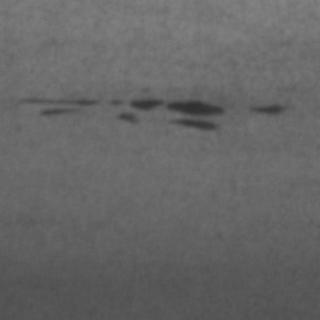inclusion: (13, 88, 233, 132), (240, 96, 292, 118)
